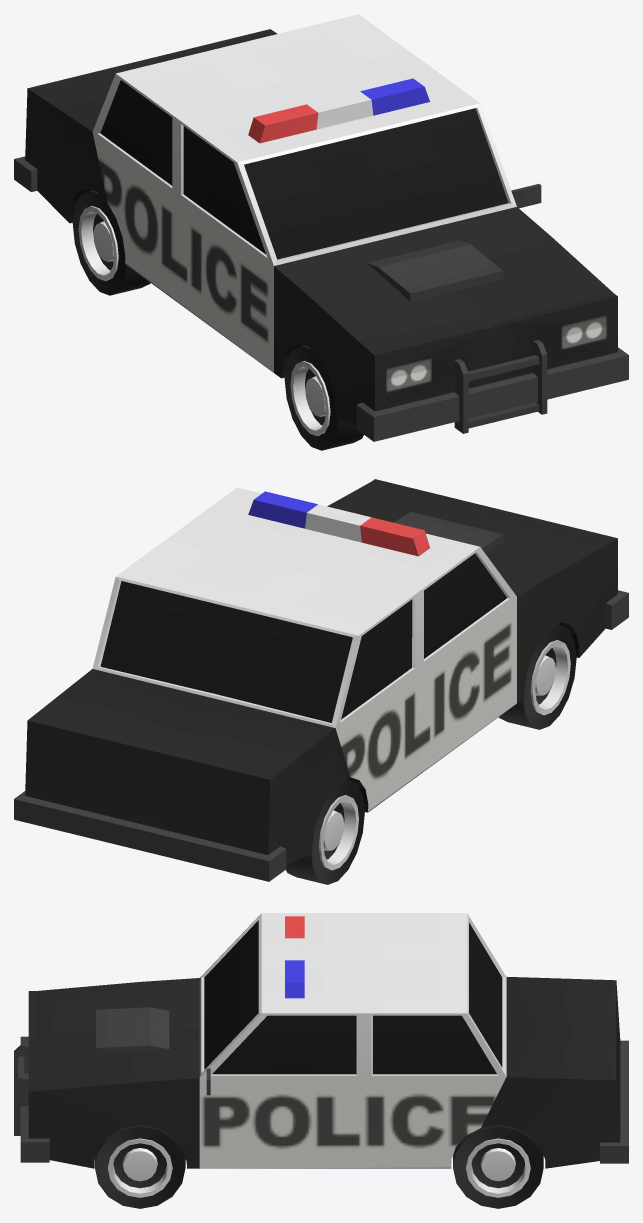
Rendered from policeCar.fbx.
The picture shows the model from 3 angles, top to bottom: view 1: azimuth 30°, elevation 25°; view 2: azimuth 150°, elevation 25°; view 3: azimuth 270°, elevation 25°; orthographic projection. The views are drawn at different scales.
Parts seen in each view (by area): view 1: policecarBody, policecarTop, tire2, tire3, policecarHead; view 2: policecarBody, policecarTop, tire3, tire2; view 3: policecarBody, tire, tire1, policecarTop, policecarHead.
Part boxes in pixels (x1,y1,x2,y2): policecarBody: (14, 14, 628, 441); policecarTop: (248, 78, 429, 143); tire2: (284, 345, 363, 450); tire3: (72, 190, 150, 295); policecarHead: (454, 340, 547, 433); policecarBody: (14, 479, 628, 881); policecarTop: (248, 491, 429, 556); tire3: (286, 779, 364, 884); tire2: (499, 624, 576, 729); policecarBody: (20, 913, 628, 1168); tire: (453, 1125, 543, 1208); tire1: (94, 1125, 185, 1208); policecarTop: (285, 916, 304, 998); policecarHead: (14, 1044, 28, 1135).
Size of the model in its own units: 179 by 153 by 406.
2 materials, 2 textured.
